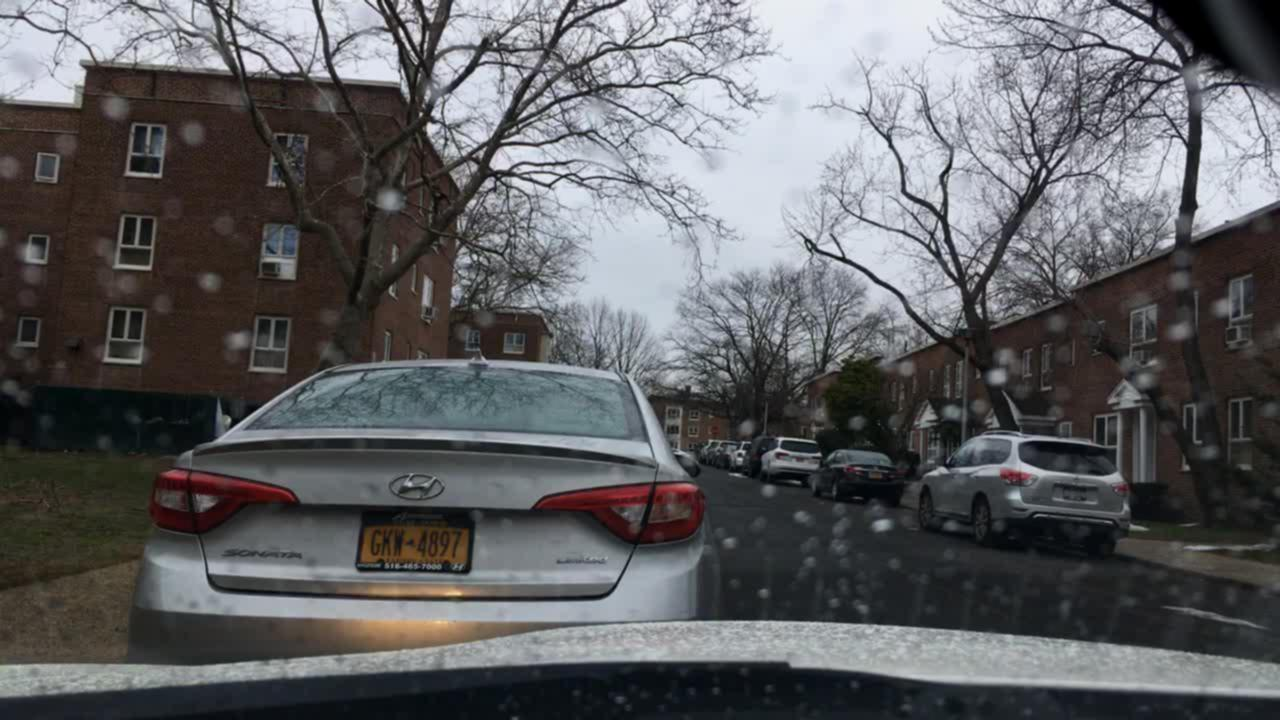Hyundai: (381, 457, 454, 508)
